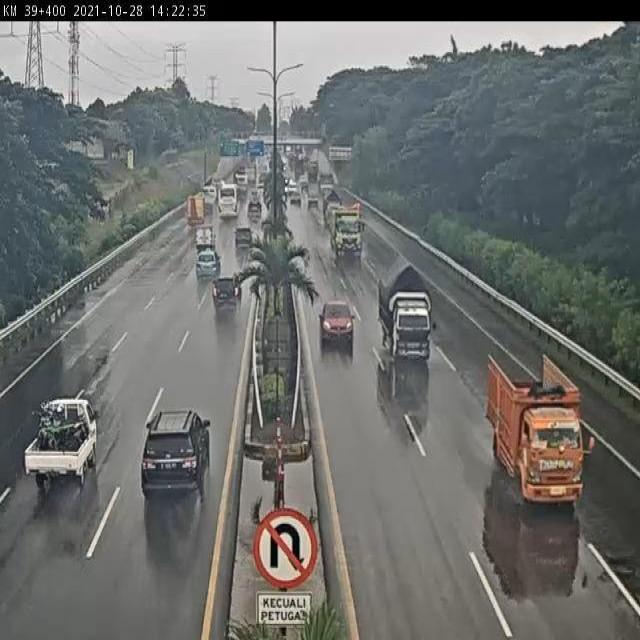car: (22, 396, 98, 491), (138, 409, 210, 499), (320, 297, 355, 348), (213, 269, 243, 304), (195, 245, 222, 279), (233, 222, 254, 246)
truck-l-: (327, 202, 364, 262)
truck-s-: (487, 358, 585, 498), (378, 255, 435, 365), (187, 195, 207, 224)
